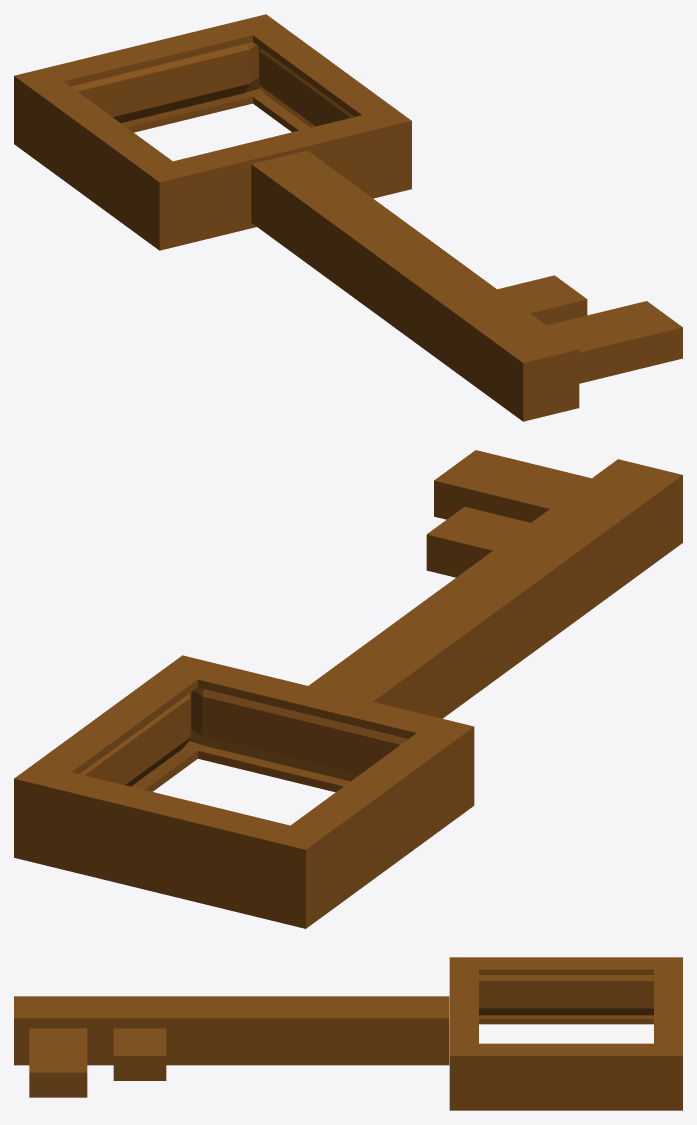
Rendered from WoodKey.fbx.
The picture shows the model from 3 angles, top to bottom: view 1: azimuth 30°, elevation 25°; view 2: azimuth 150°, elevation 25°; view 3: azimuth 270°, elevation 25°; orthographic projection. The views are drawn at different scales.
Visible parts, largest first — view 1: Cube.006; view 2: Cube.006; view 3: Cube.006.
Boxes of the visible parts, x1,y1,x2,y2 form: Cube.006: (14,14,682,421); Cube.006: (14,450,682,928); Cube.006: (14,957,682,1110).
Size of the model in its own units: 111 by 27.68 by 307.
